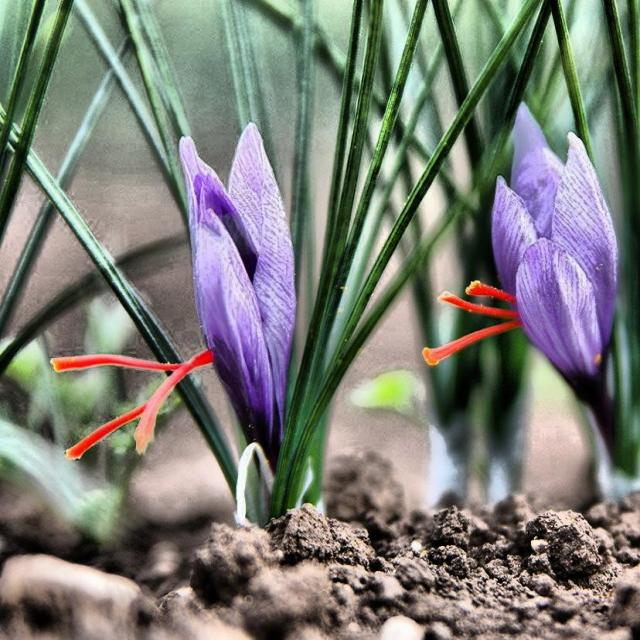Flower: (48, 119, 301, 462), (417, 87, 623, 424)
stigma: (134, 340, 216, 456), (57, 382, 146, 464), (421, 320, 520, 370), (49, 348, 194, 376), (436, 292, 526, 314), (464, 271, 518, 301)
